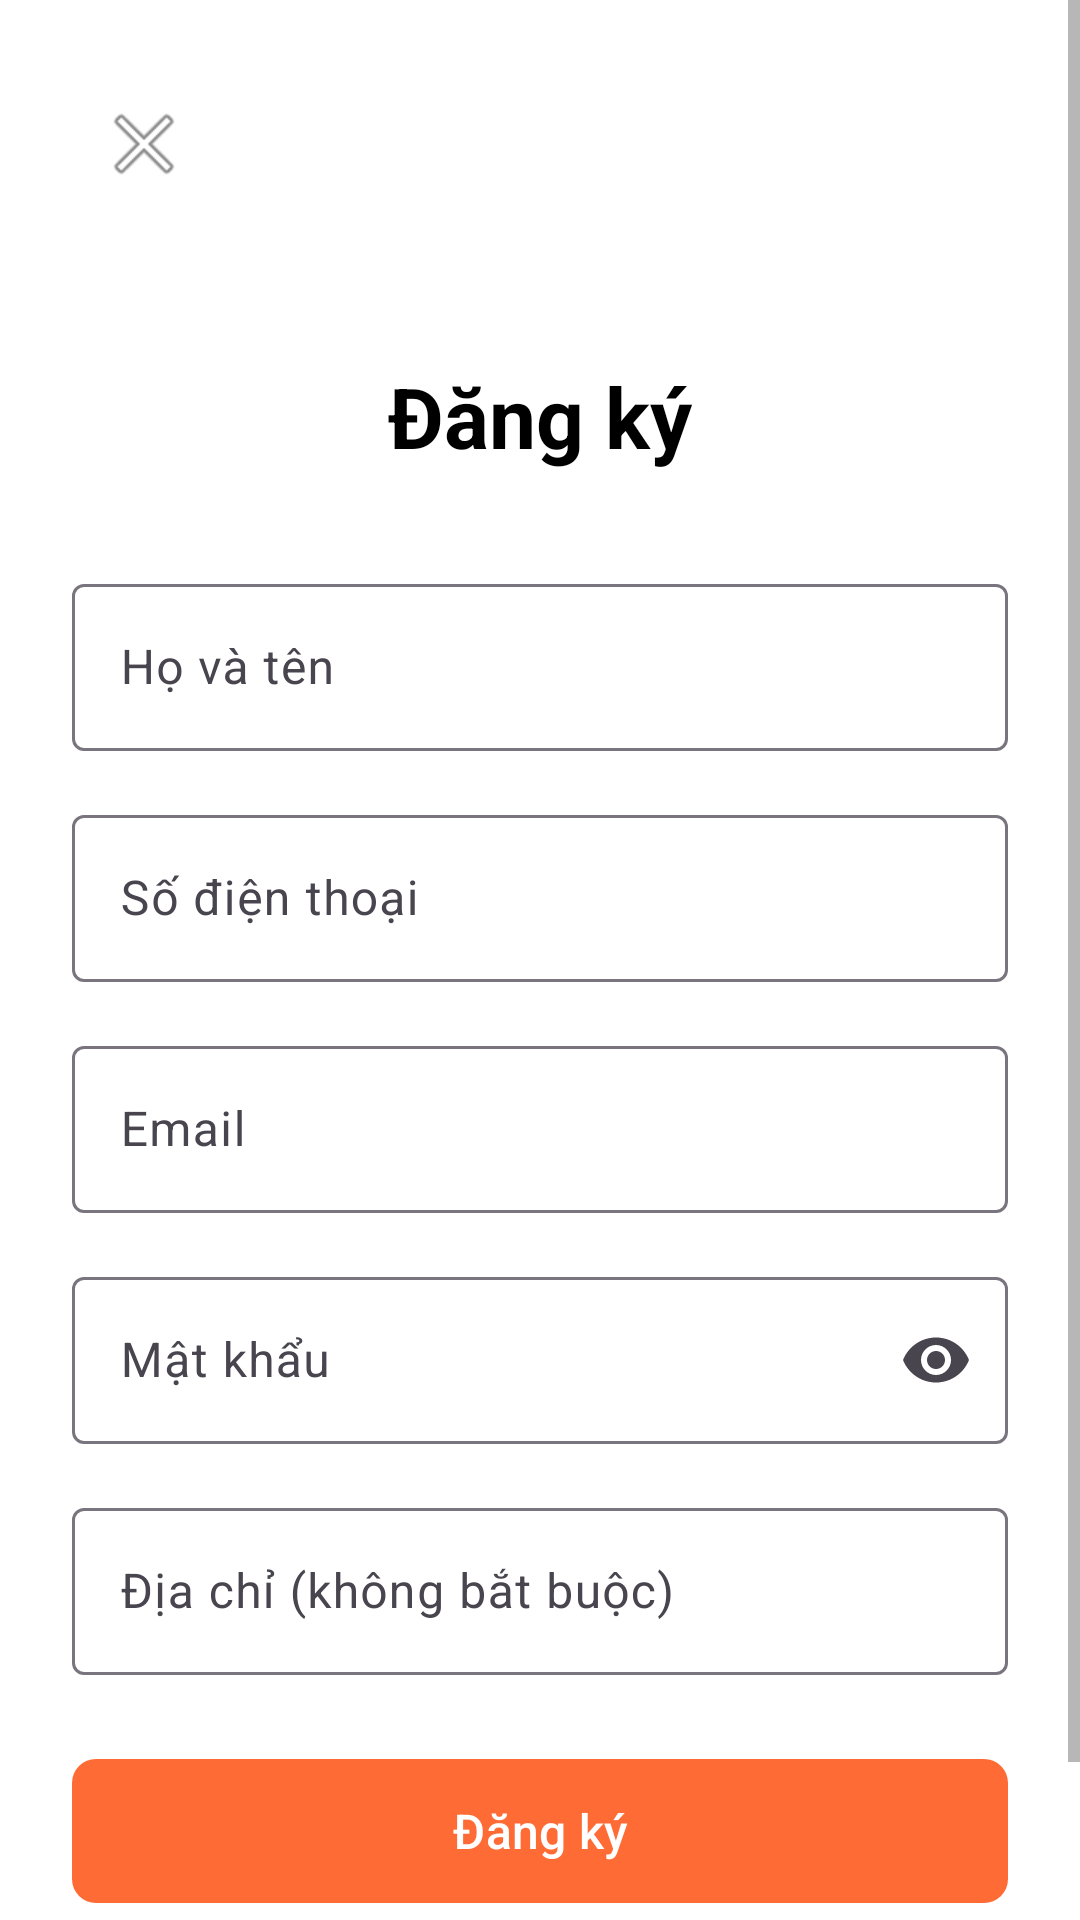

Where to tap for icons on this 1080 × 1920 app screen, as [x,y]:
close clear cancel: [144,144]
